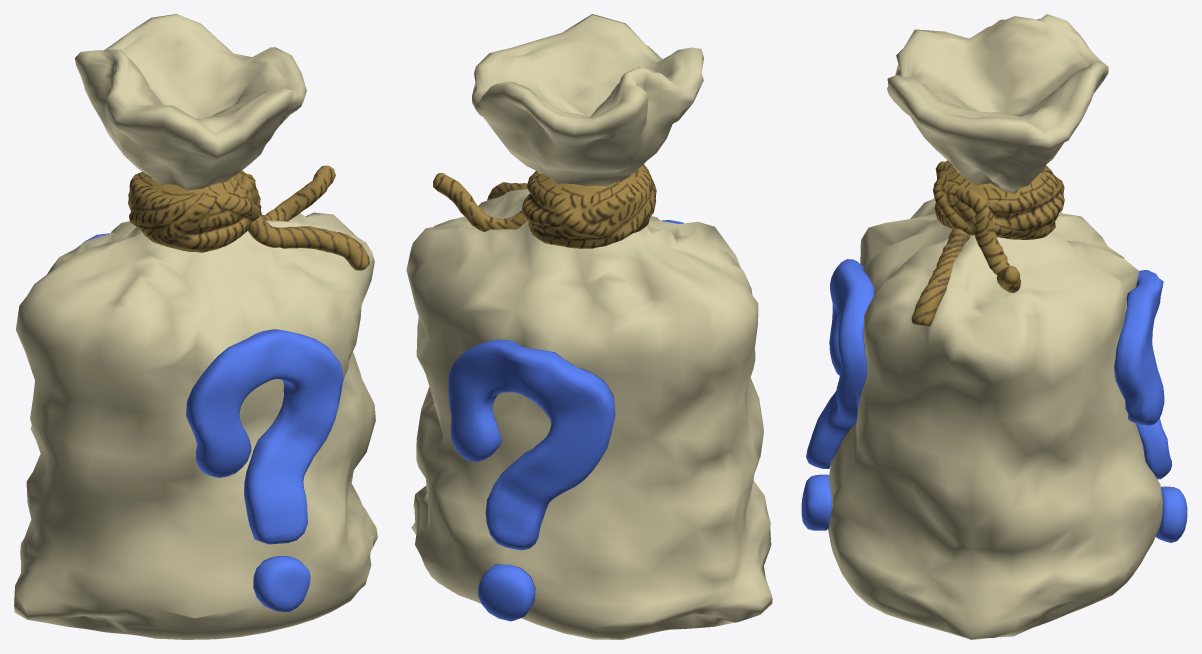
Rendered from Item_bag_rev02_FBX_LowPoly_rev01_BLUE.fbx.
3 views of the same model, side by side, from view 1: azimuth 30°, elevation 25°; view 2: azimuth 150°, elevation 25°; view 3: azimuth 270°, elevation 25° (orthographic). The views are drawn at different scales.
Visible parts, largest first — view 1: Item_bag_bag, Item_bag_top, Item_bag_Question_A, Item_bag_StringC, Item_bag_stringB, Item_bag_Question_A_dot, Item_bag_stringA; view 2: Item_bag_bag, Item_bag_top, Item_bag_Question_B, Item_bag_StringC, Item_bag_Question_B_dot, Item_bag_stringA; view 3: Item_bag_bag, Item_bag_top, Item_bag_Question_A, Item_bag_Question_B, Item_bag_StringC, Item_bag_stringA, Item_bag_stringB, Item_bag_Question_A_dot, Item_bag_Question_B_dot.
Part boxes in pixels (x1,y1,x2,y2): Item_bag_bag: [14, 212, 377, 639]; Item_bag_top: [75, 14, 306, 190]; Item_bag_Question_A: [186, 329, 343, 544]; Item_bag_StringC: [128, 170, 259, 252]; Item_bag_stringB: [248, 215, 369, 270]; Item_bag_Question_A_dot: [253, 556, 310, 611]; Item_bag_stringA: [241, 165, 335, 221]; Item_bag_bag: [406, 189, 772, 639]; Item_bag_top: [471, 14, 703, 186]; Item_bag_Question_B: [448, 339, 615, 550]; Item_bag_StringC: [521, 164, 656, 248]; Item_bag_Question_B_dot: [478, 564, 535, 621]; Item_bag_stringA: [433, 173, 528, 231]; Item_bag_bag: [828, 198, 1162, 639]; Item_bag_top: [887, 14, 1108, 193]; Item_bag_Question_A: [806, 259, 873, 468]; Item_bag_Question_B: [1114, 270, 1172, 479]; Item_bag_StringC: [933, 160, 1064, 239]; Item_bag_stringA: [955, 188, 1020, 292]; Item_bag_stringB: [911, 228, 970, 326]; Item_bag_Question_A_dot: [801, 474, 832, 530]; Item_bag_Question_B_dot: [1155, 486, 1187, 542].
Size of the model in its own units: 16.23 by 23.64 by 15.91.
Materials: 3 (3 with a texture image).
